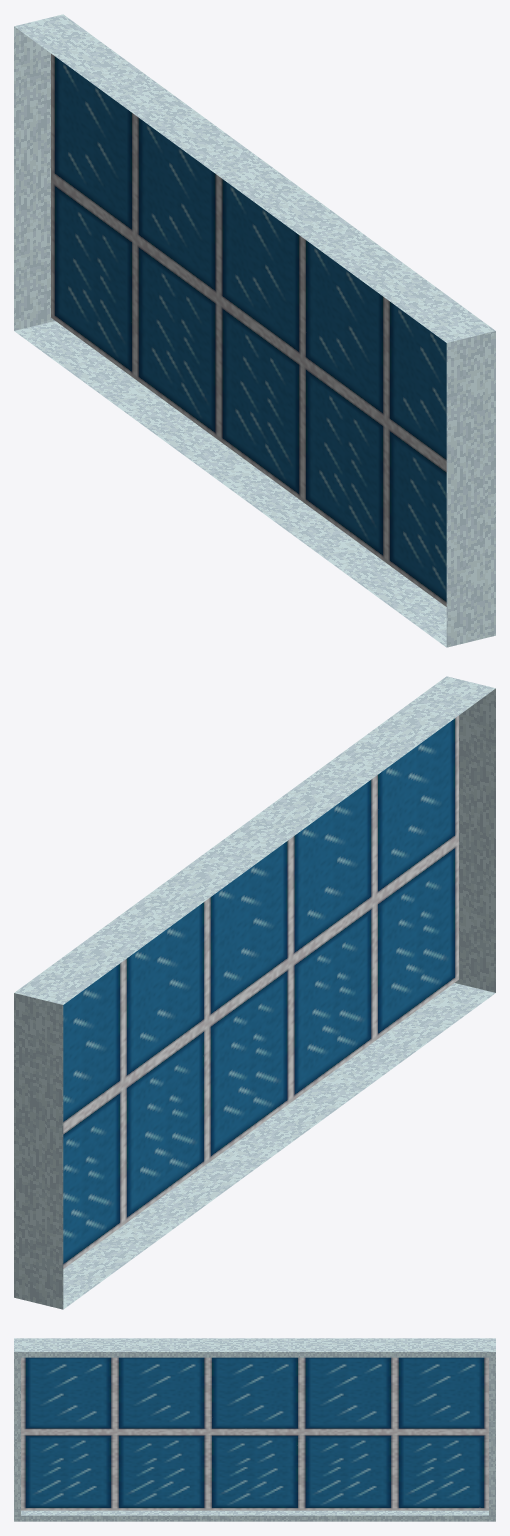
The model's file is BGN_WINDOW (BIG 1).fbx.
The picture shows the model from 3 angles, top to bottom: view 1: azimuth 30°, elevation 25°; view 2: azimuth 150°, elevation 25°; view 3: azimuth 270°, elevation 25°; orthographic projection. The views are drawn at different scales.
Parts seen in each view (by area): view 1: BGN_WINDOW__BIG_1_; view 2: BGN_WINDOW__BIG_1_; view 3: BGN_WINDOW__BIG_1_.
Boxes of the visible parts, x1=… form: BGN_WINDOW__BIG_1_: x1=14, y1=14, x2=495, y2=647; BGN_WINDOW__BIG_1_: x1=14, y1=676, x2=495, y2=1309; BGN_WINDOW__BIG_1_: x1=14, y1=1338, x2=495, y2=1521.
Size of the model in its own units: 27.1 by 160 by 411.
2 materials, 2 textured.
